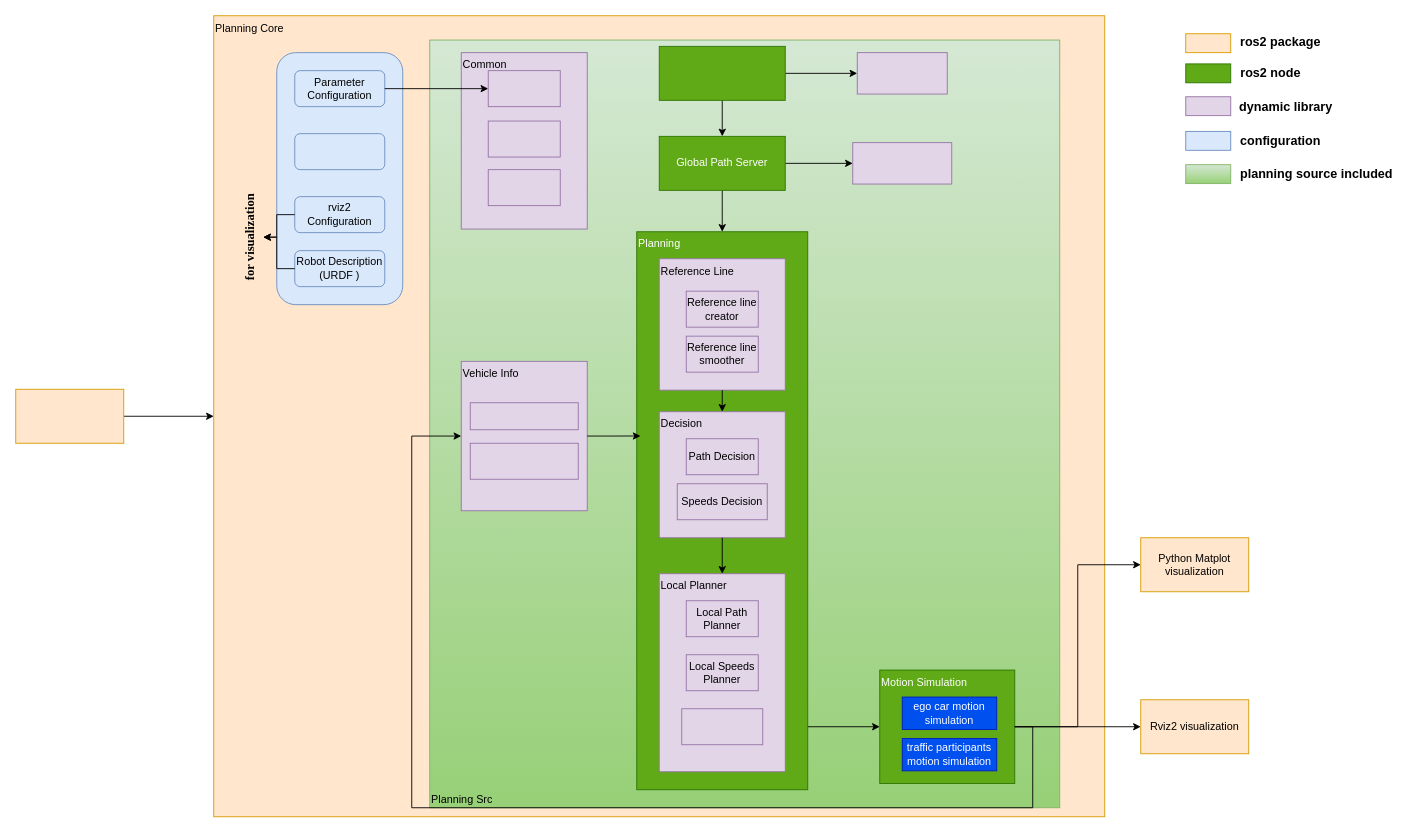
The diagram is 1413 pixels wide and 833 high, and some of its shapes have lost their labels. The shapes that lost their labels are listed below. From the top down, each one's centre as x and y in pixels, then its label:
[523,88]: Configuration reader
[721,72]: Map Server
[901,73]: Map Creator
[339,151]: ros2 launch script
[523,138]: Math Tools
[902,163]: Global Path Creator
[523,187]: Data Type
[69,415]: ros2 msg interface
[523,416]: Ego Car Real-time Info
[523,460]: Traffic Participant Car Real-time info
[722,726]: Local Trajectory Combiner
